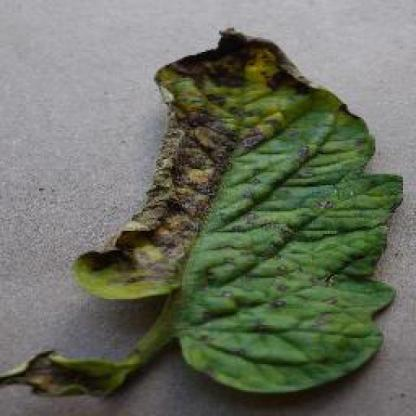Tomato_Blight: (73, 31, 402, 395)
